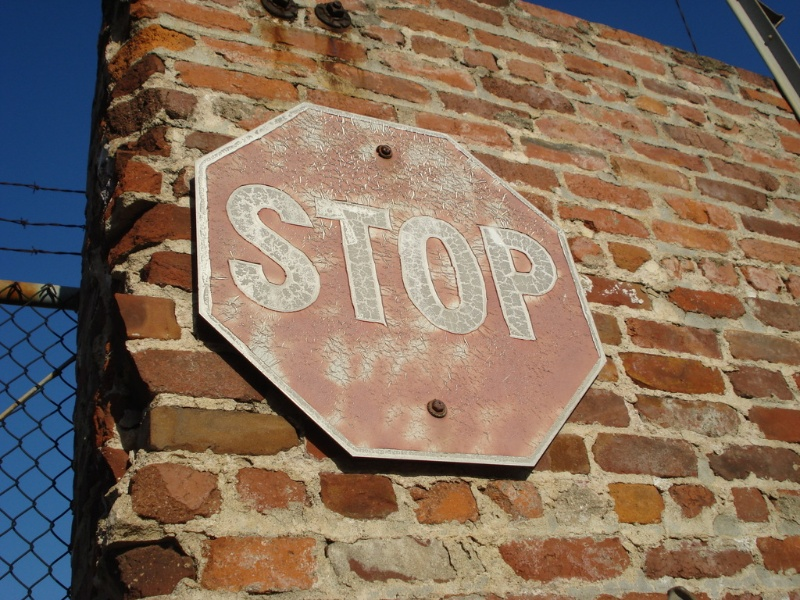stop: (185, 88, 608, 472)
